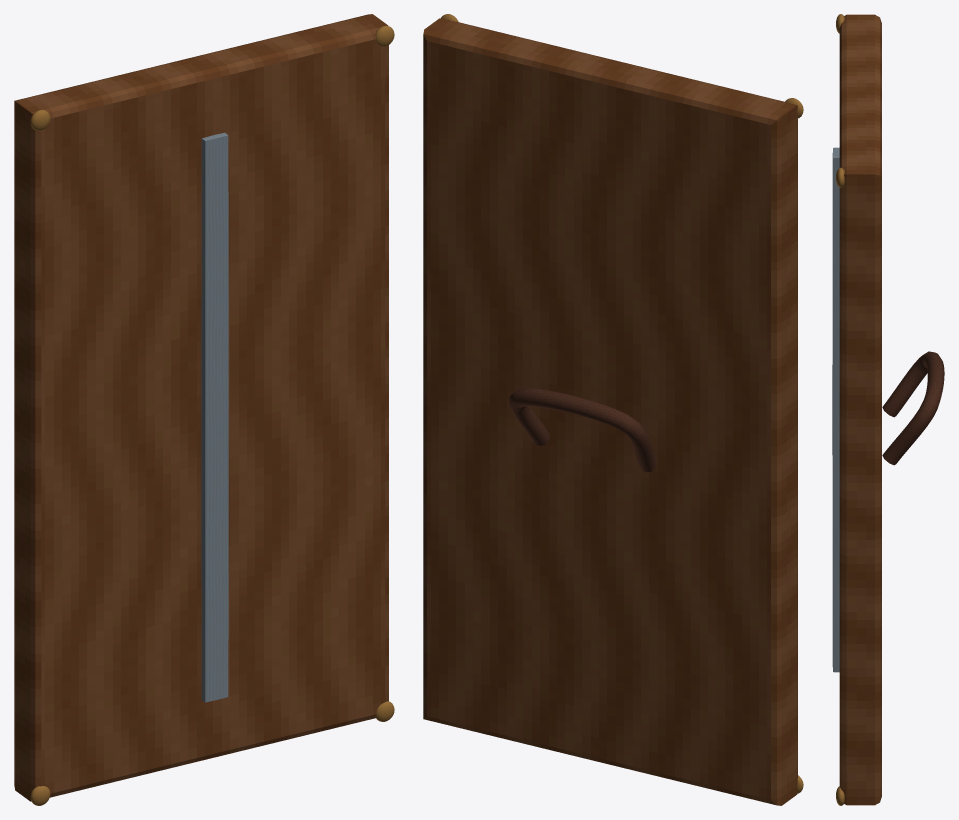
The model's file is tower-shield.lod1.glb.
3 views of the same model, side by side, from view 1: azimuth 30°, elevation 25°; view 2: azimuth 150°, elevation 25°; view 3: azimuth 270°, elevation 25° (orthographic). The views are drawn at different scales.
Visible parts, largest first — view 1: wood.0, steel.5; view 2: wood.0, leather.6; view 3: wood.0, steel.5, leather.6.
Part boxes in pixels (<box>): wood.0: <box>14,14,388,801</box>; steel.5: <box>201,132,228,702</box>; wood.0: <box>423,18,797,805</box>; leather.6: <box>509,388,657,472</box>; wood.0: <box>839,14,881,805</box>; steel.5: <box>832,147,839,672</box>; leather.6: <box>882,351,944,465</box>.
Size of the model in its own units: 0.676 by 1.24 by 0.1973.
4 materials, 4 textured.
